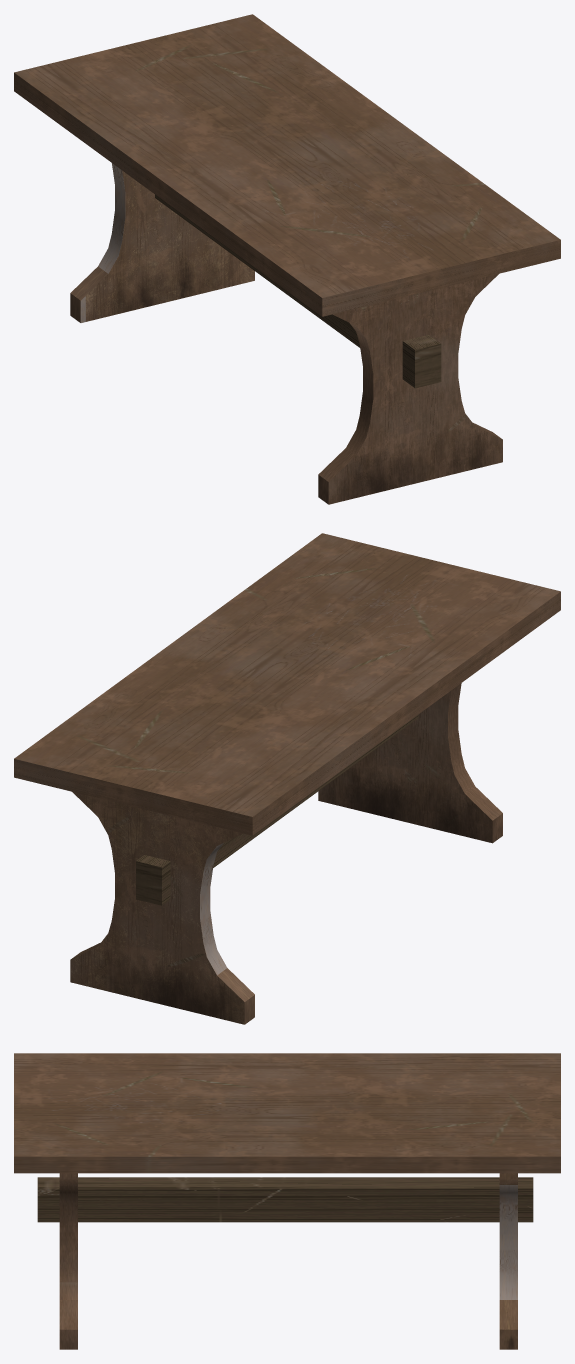
Rendered from Table.fbx.
3 views of the same model, one above another, from view 1: azimuth 30°, elevation 25°; view 2: azimuth 150°, elevation 25°; view 3: azimuth 270°, elevation 25° (orthographic). The views are drawn at different scales.
Parts seen in each view (by area): view 1: столешница, ножка1, ножка2, палка; view 2: столешница, ножка2, ножка1, палка; view 3: столешница, палка, ножка1, ножка2.
Part boxes in pixels (x1,y1,x2,y2): столешница: (14,14,560,316); ножка1: (318,274,502,504); ножка2: (70,163,254,322); палка: (155,194,441,388); столешница: (14,533,560,835); ножка2: (70,791,254,1024); ножка1: (318,683,502,843); палка: (136,714,418,905); столешница: (14,1053,560,1173); палка: (37,1177,533,1222); ножка1: (59,1173,77,1349); ножка2: (499,1173,517,1349).
Size of the model in its own units: 186 by 174 by 417.
